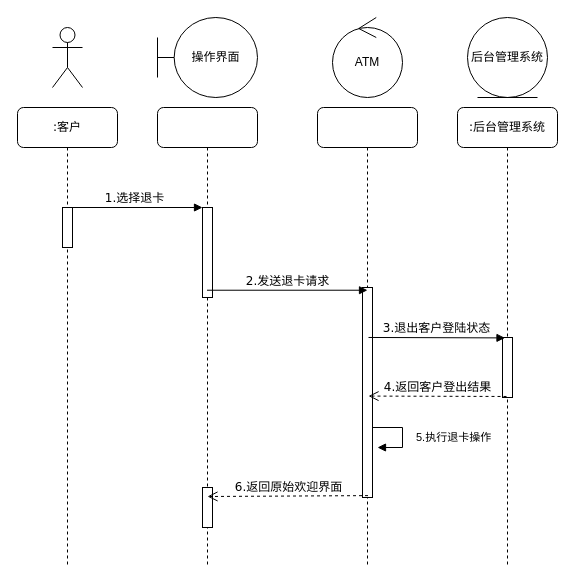
Some shapes in this 575 by 585 pixel diagram are drawn without their labels. The shapes that lost their labels are listed below. From the top down, each one's box as (x1, y1, x2, y2) in pixels, then its label:
(52, 26, 82, 88): 客户
(156, 106, 258, 568): :操作界面
(316, 106, 418, 568): :ATM
